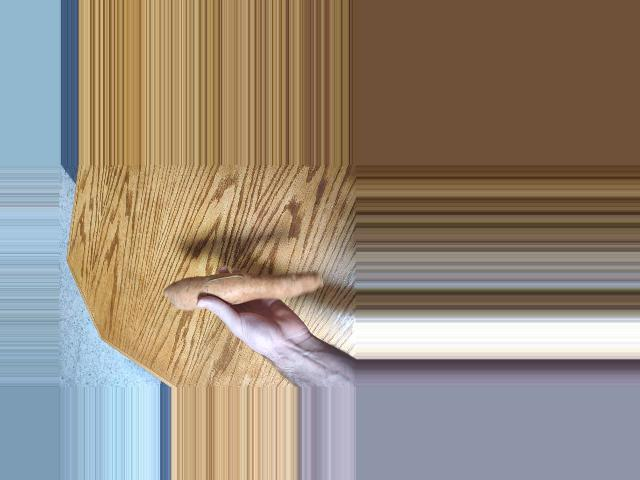sweet_potato: (168, 268, 329, 304)
